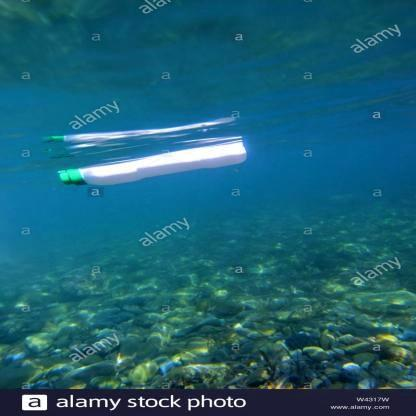pbottle: (54, 139, 250, 187)
